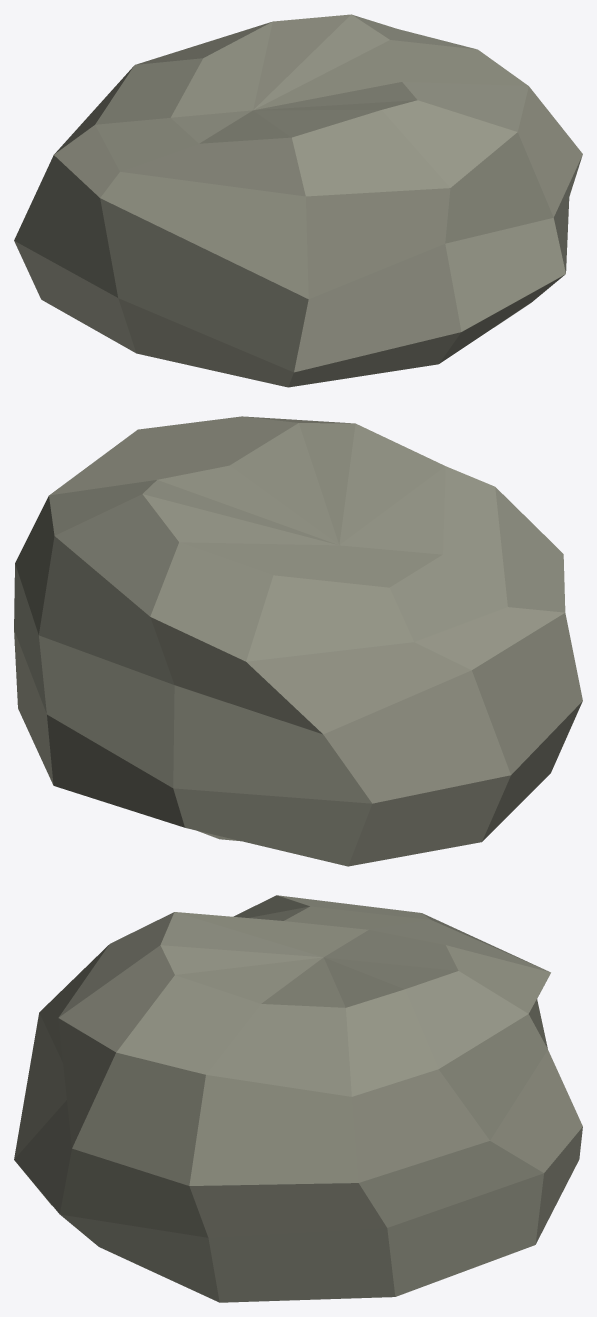
Rendered from Rock3.glb.
The picture shows the model from 3 angles, top to bottom: view 1: azimuth 30°, elevation 25°; view 2: azimuth 150°, elevation 25°; view 3: azimuth 270°, elevation 25°; orthographic projection. The views are drawn at different scales.
Parts seen in each view (by area): view 1: Rock3 -col; view 2: Rock3 -col; view 3: Rock3 -col.
Part boxes in pixels (<box>): Rock3 -col: <box>14,14,582,387</box>; Rock3 -col: <box>14,416,582,866</box>; Rock3 -col: <box>14,895,582,1302</box>.
Bounding box in the file's own units: 0.5727 × 0.3242 × 0.5298.
Materials: 1 (1 with a texture image).
